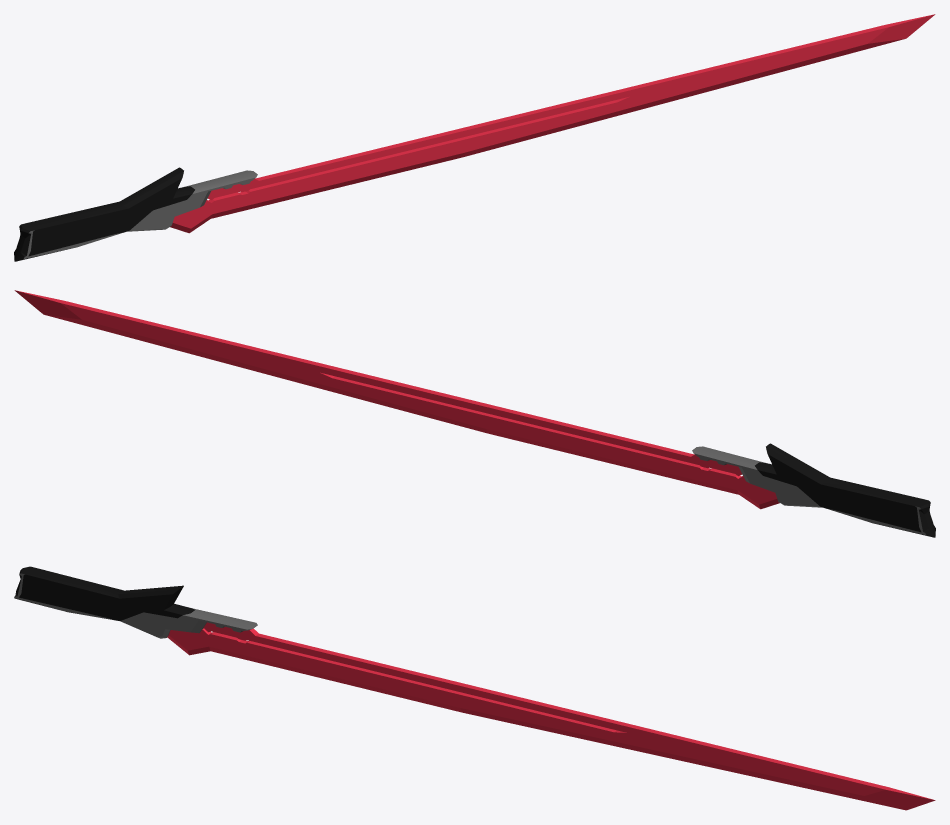
Rendered from bossblade.fbx.
3 views of the same model, one above another, from view 1: azimuth 30°, elevation 25°; view 2: azimuth 150°, elevation 25°; view 3: azimuth 330°, elevation 25° (orthographic).
Visible parts, largest first — view 1: Cube; view 2: Cube; view 3: Cube.
Boxes of the visible parts, box(x1,y1,x2,y2) form: Cube: box(14, 14, 935, 261); Cube: box(14, 290, 935, 537); Cube: box(14, 566, 935, 810).
Size of the model in its own units: 1129 by 77.66 by 19.96.
